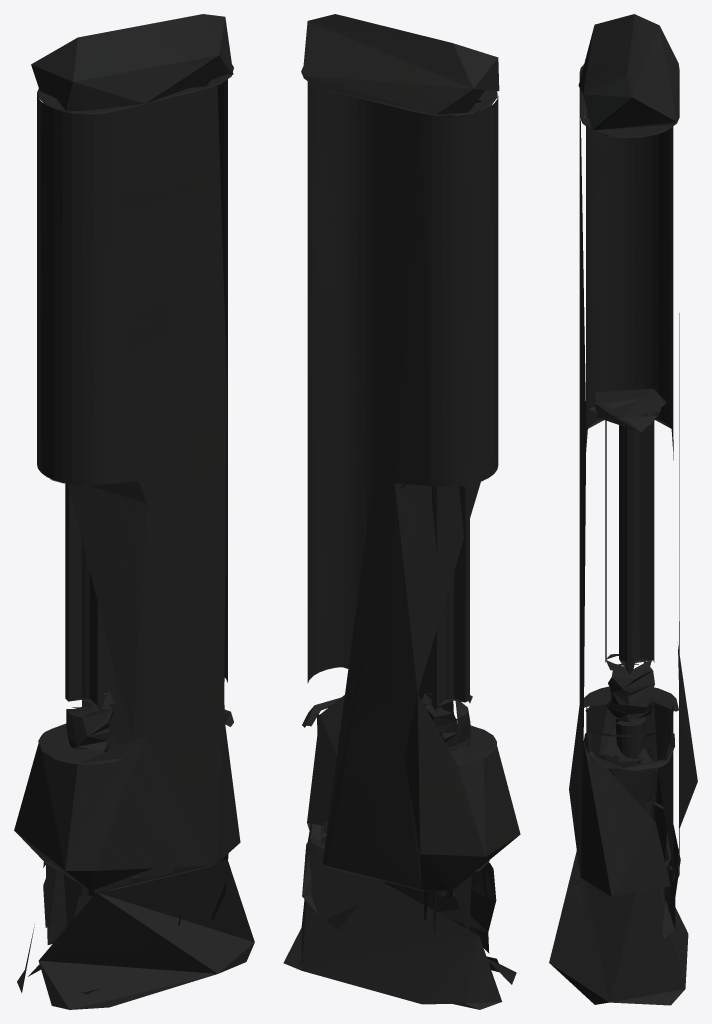
The model's file is medicine_c01.glb.
3 renders of one model, left to right at view 1: azimuth 30°, elevation 25°; view 2: azimuth 150°, elevation 25°; view 3: azimuth 270°, elevation 25°, orthographic. The views are drawn at different scales.
Parts seen in each view (by area): view 1: geometry_0; view 2: geometry_0; view 3: geometry_0.
Boxes of the visible parts, x1,y1,x2,y2 form: geometry_0: [14, 14, 254, 1009]; geometry_0: [283, 14, 520, 1009]; geometry_0: [549, 14, 697, 1005].
Size of the model in its own units: 0.1009 by 0.42 by 0.0615.
Materials: 1 (1 with a texture image).
